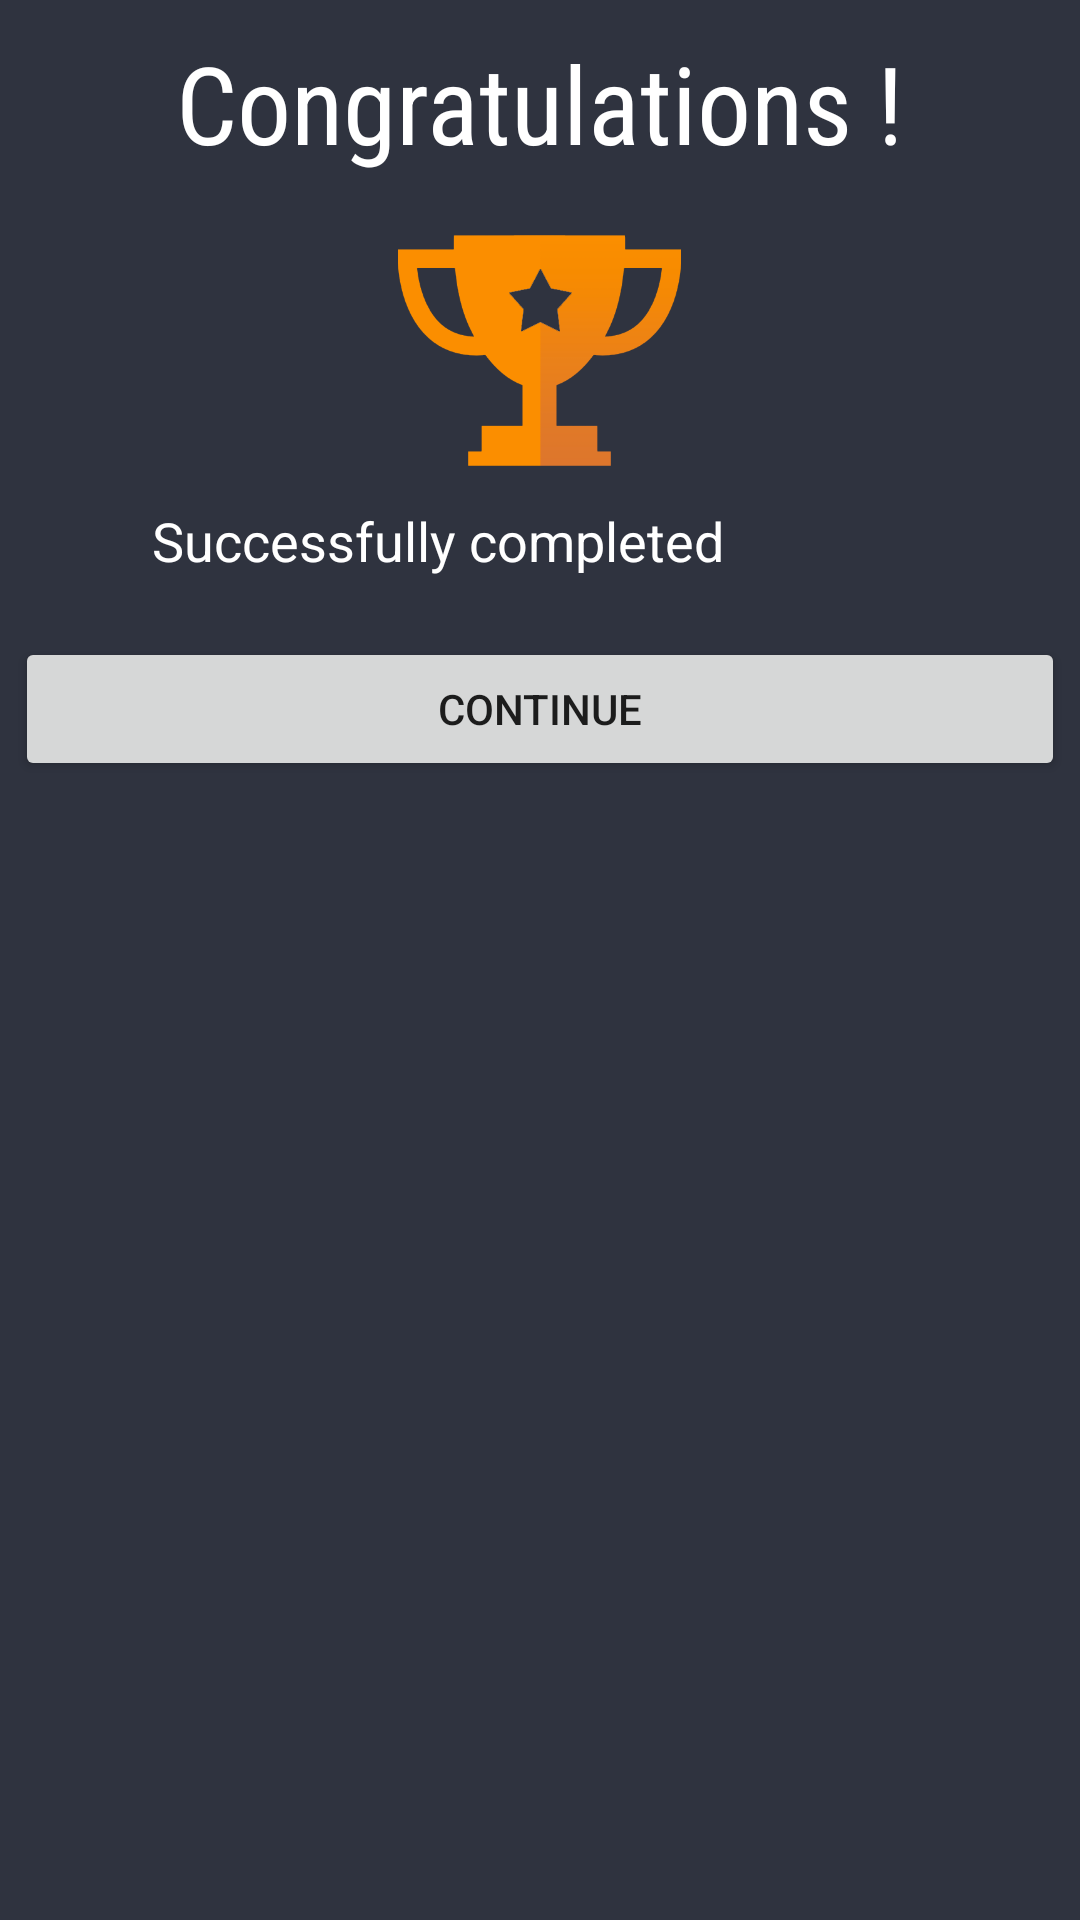

Named icons in this screenshot (1080w x 1920h) and their centers, [x,y]:
victory: [539,350]
